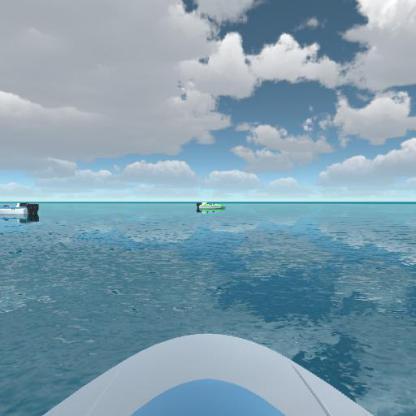usv0: (194, 195, 230, 216)
usv1: (1, 198, 42, 222)
